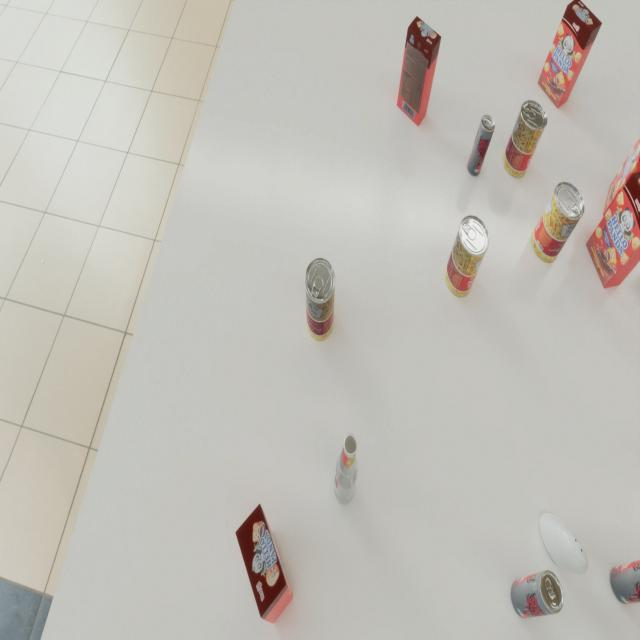Bottle: (334, 434, 358, 506)
HelloPanda: (538, 0, 602, 109), (236, 504, 294, 624), (586, 170, 640, 288), (397, 16, 441, 126)
Potato_sticks: (531, 182, 585, 263), (445, 215, 489, 298), (502, 100, 548, 178), (305, 258, 335, 341)
Rita_zero_sugar: (511, 570, 564, 618), (467, 115, 495, 177)
Salt: (539, 513, 589, 576)
